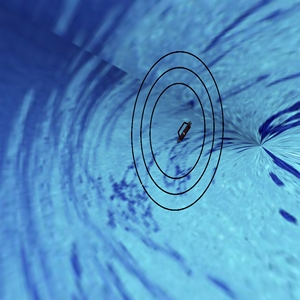circle: (121, 40, 236, 217)
submarine: (171, 113, 196, 152)
